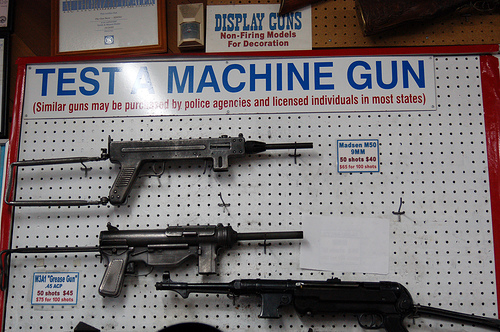rifle: (22, 131, 317, 196), (9, 209, 304, 274), (159, 276, 493, 332)
